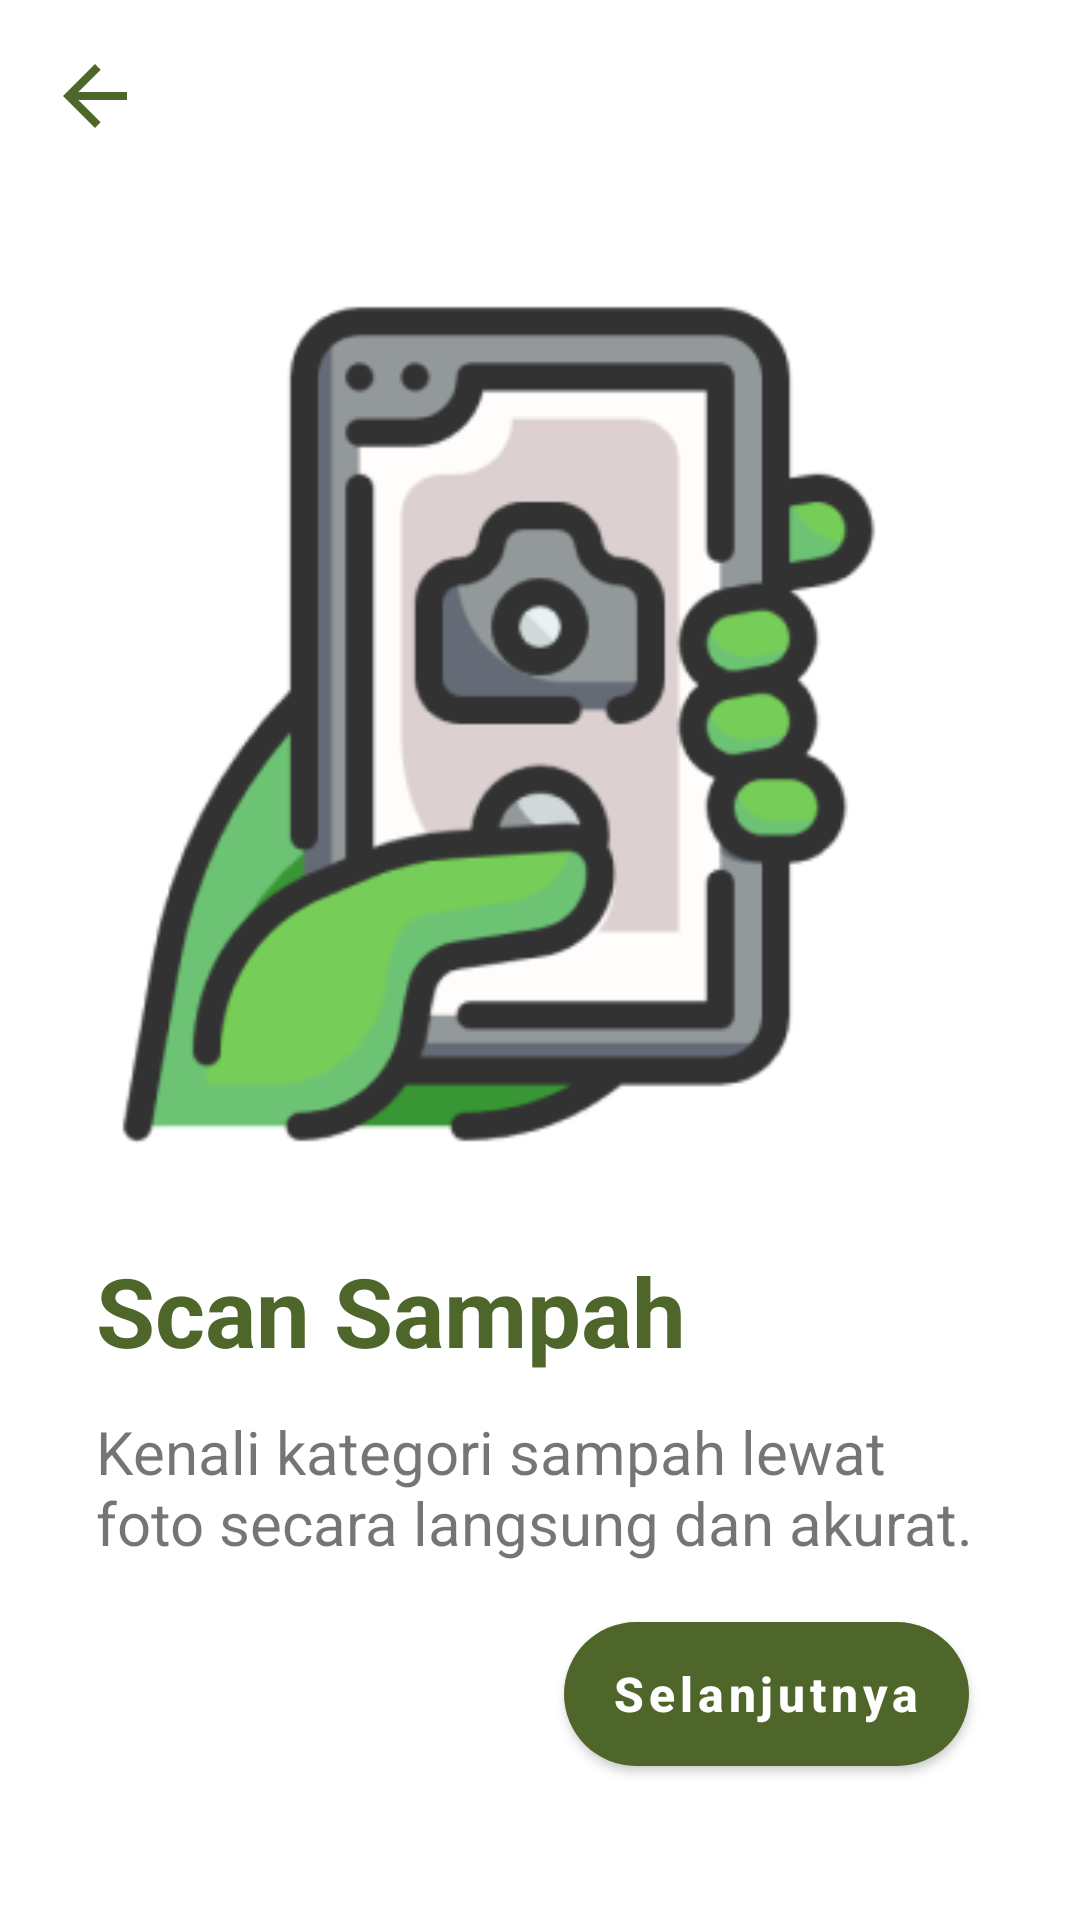

Where to tap for icons on this 1080px×1920px app screen, as (x=x, y=y):
Back: (x=95, y=96)
